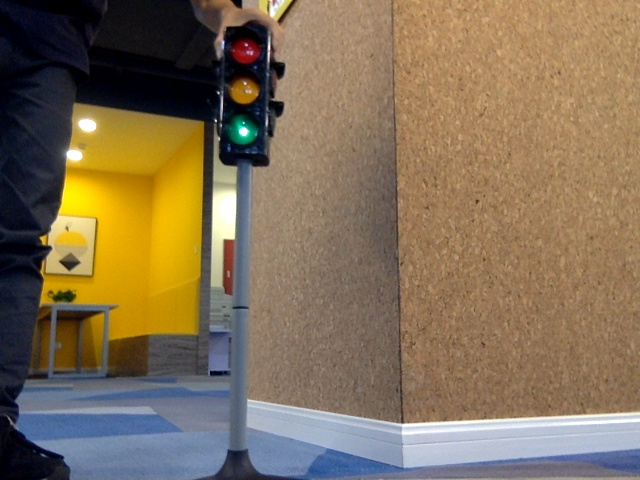green: (224, 34, 263, 148)
